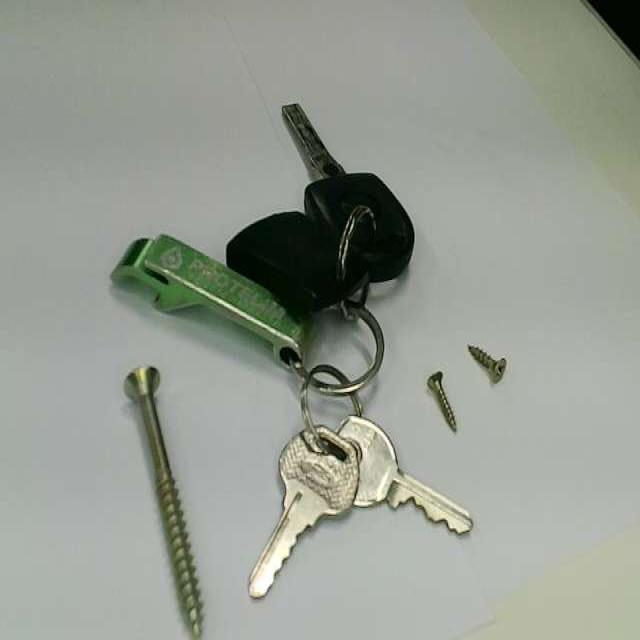Parafuso: (125, 367, 202, 635), (426, 371, 458, 433), (468, 346, 506, 382)
